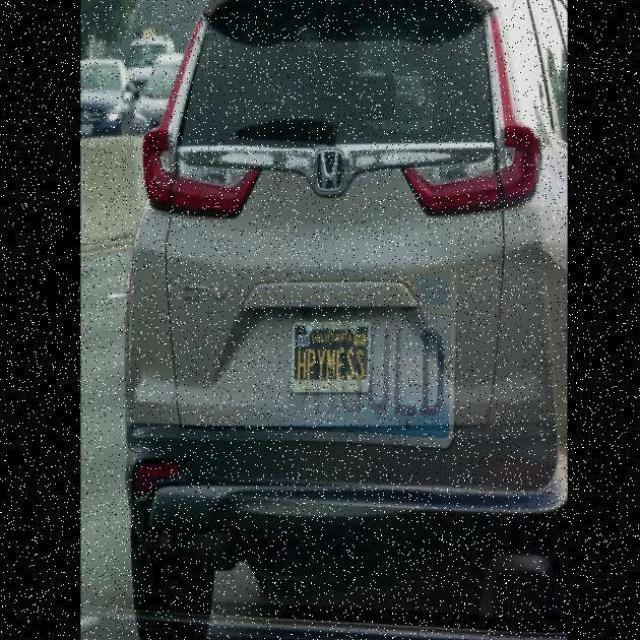license-plate: (272, 295, 390, 391)
